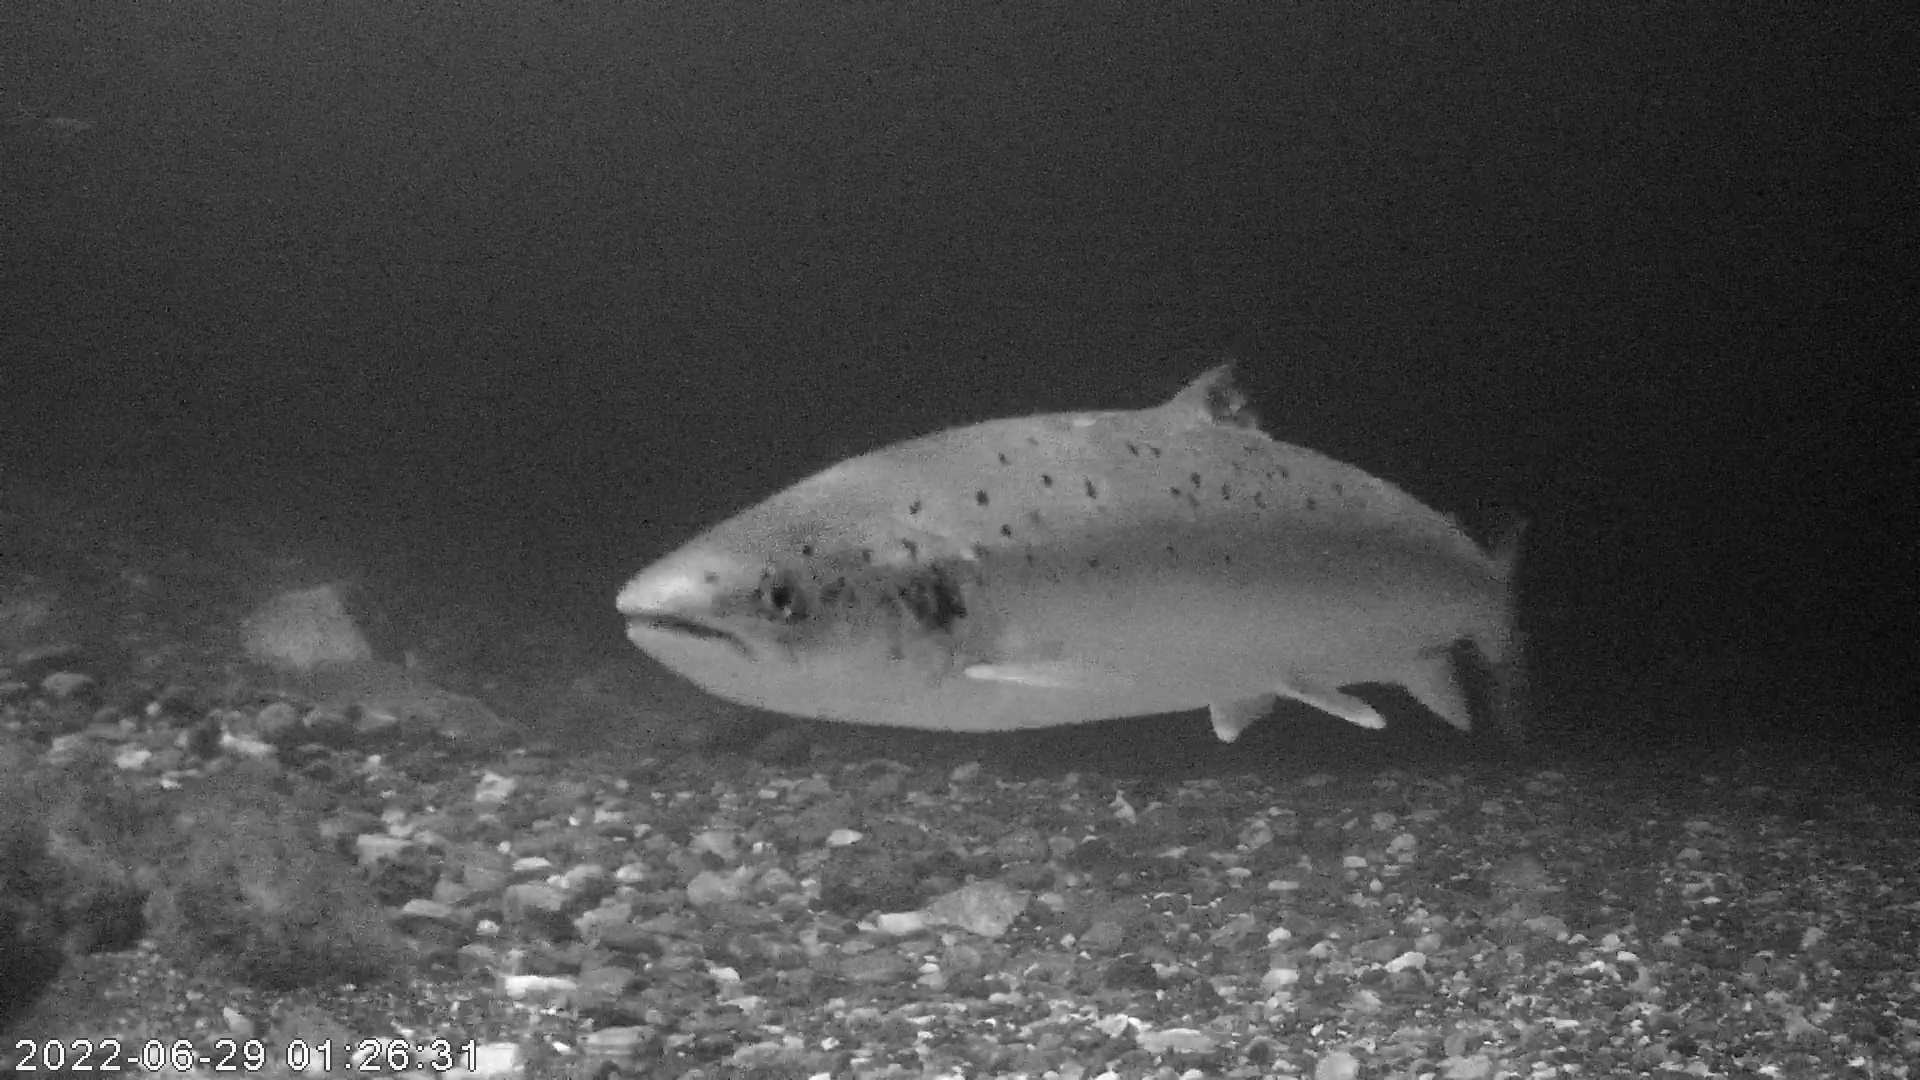salmon: (607, 342, 1545, 748)
